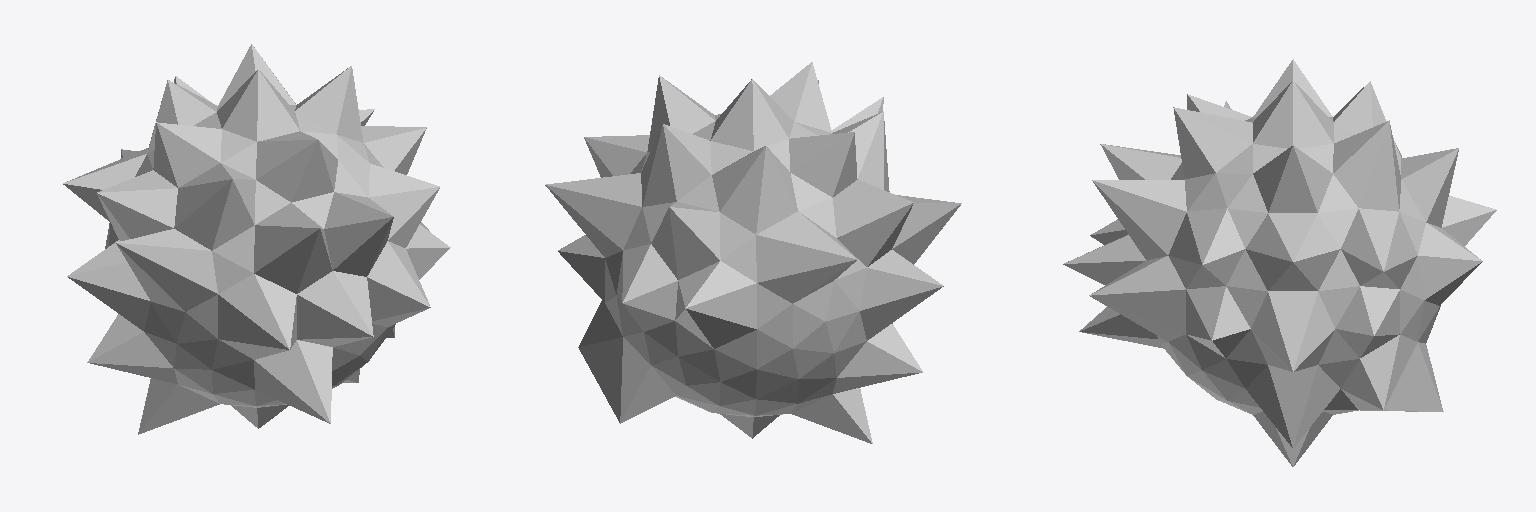
The model's file is Spiked Ball Pivot-Fixed.obj.
3 views of the same model, side by side, from view 1: azimuth 30°, elevation 25°; view 2: azimuth 150°, elevation 25°; view 3: azimuth 270°, elevation 25° (orthographic).
Visible parts, largest first — view 1: Spiked Ball Pivot-Fixed; view 2: Spiked Ball Pivot-Fixed; view 3: Spiked Ball Pivot-Fixed.
Boxes of the visible parts, <box> form: Spiked Ball Pivot-Fixed: <box>63,44,450,434</box>; Spiked Ball Pivot-Fixed: <box>545,62,961,443</box>; Spiked Ball Pivot-Fixed: <box>1063,59,1496,466</box>.
Size of the model in its own units: 1.37 by 1.29 by 1.41.